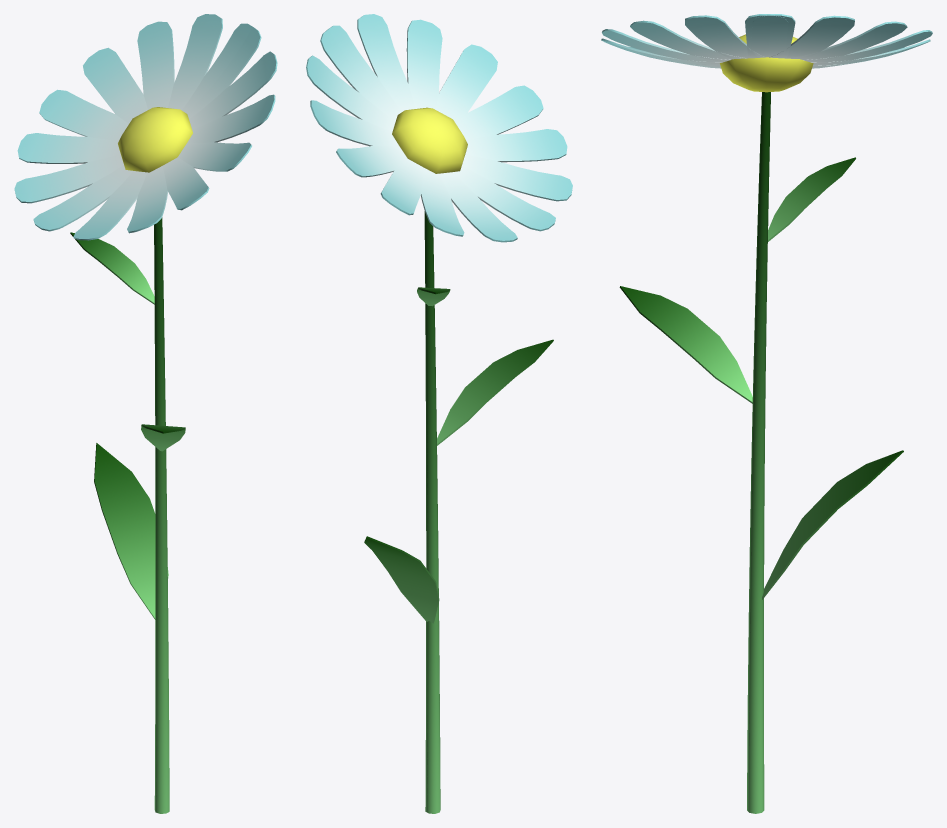
Rendered from SunFlower_White.fbx.
3 renders of one model, left to right at view 1: azimuth 30°, elevation 25°; view 2: azimuth 150°, elevation 25°; view 3: azimuth 270°, elevation 25°, orthographic. The views are drawn at different scales.
Visible parts, largest first — view 1: pasted__Plane.016, pasted__Cylinder.024, pasted__Plane.013, pasted__Sphere.001, pasted__Plane.015, pasted__Plane.014; view 2: pasted__Plane.016, pasted__Cylinder.024, pasted__Sphere.001, pasted__Plane.014, pasted__Plane.013; view 3: pasted__Plane.016, pasted__Cylinder.024, pasted__Plane.014, pasted__Plane.013, pasted__Sphere.001, pasted__Plane.015.
Part boxes in pixels (x1,y1,x2,y2): pasted__Plane.016: (14,14,277,240); pasted__Cylinder.024: (154,217,169,813); pasted__Plane.013: (94,443,168,619); pasted__Sphere.001: (118,107,192,172); pasted__Plane.015: (70,232,154,304); pasted__Plane.014: (141,424,185,451); pasted__Plane.016: (306,14,572,242); pasted__Cylinder.024: (424,211,440,813); pasted__Sphere.001: (392,107,467,173); pasted__Plane.014: (437,339,553,445); pasted__Plane.013: (364,536,439,623); pasted__Plane.016: (601,14,932,68); pasted__Cylinder.024: (747,92,770,813); pasted__Plane.014: (619,286,752,403); pasted__Plane.013: (762,450,903,599); pasted__Sphere.001: (720,34,813,92); pasted__Plane.015: (768,157,855,241).
Size of the model in its own units: 15.95 by 52.46 by 18.57.
